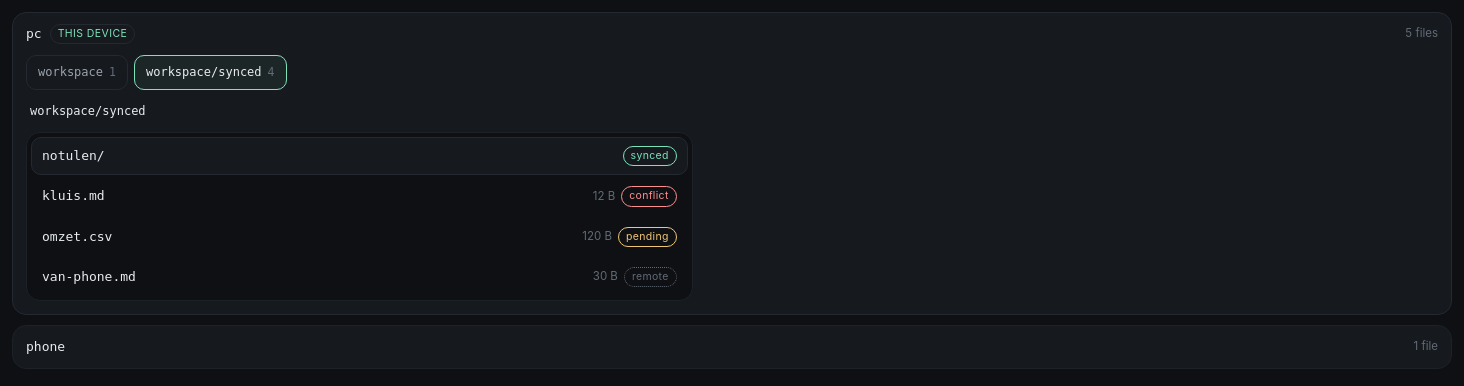
Test: FileExplorer › switches roots and shows the other root's folder
The image size is (1464, 386).
Click the tab "workspace 1" at (77, 73), box [26, 55, 128, 90]
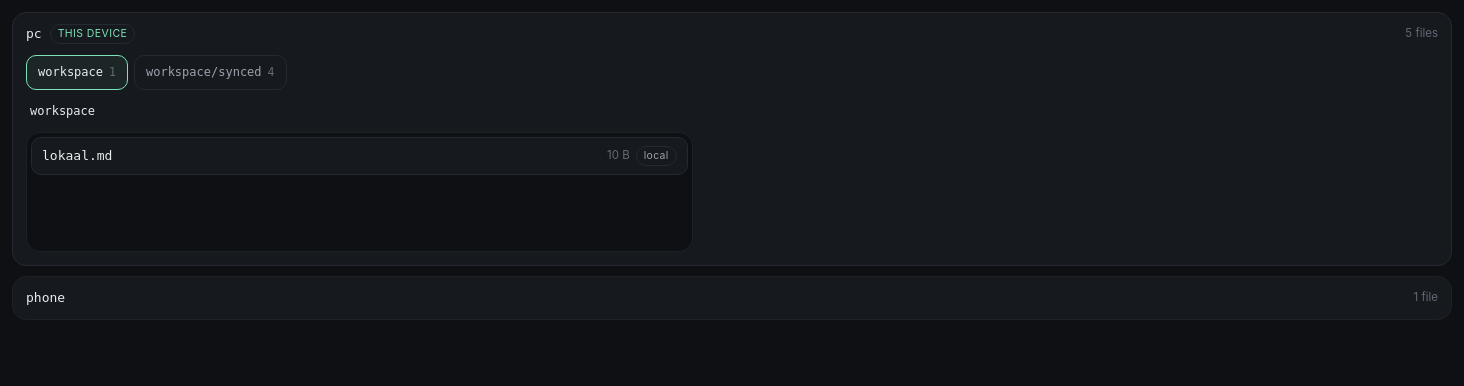
Expected: the text "lokaal.md" is shown, [42, 146, 112, 166]
Expected: the text "local" is shown, [636, 146, 677, 166]
Expected: the text "omzet.csv" is gone
